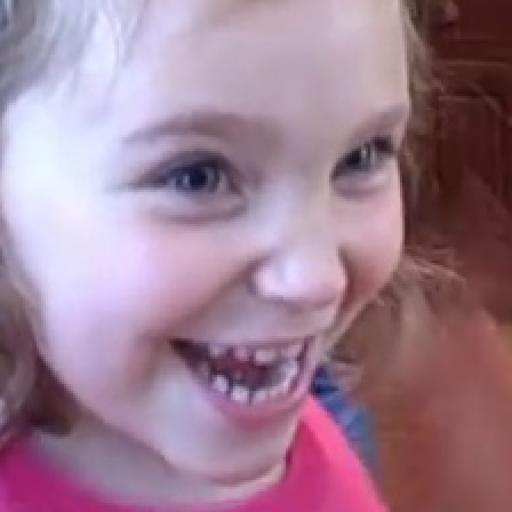Autism: (72, 51, 452, 501)
